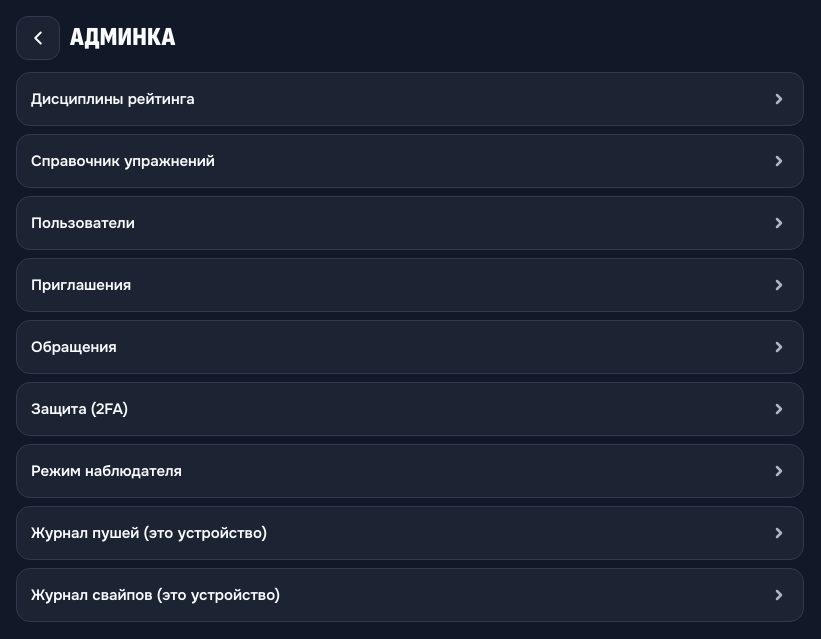
it: AdminScreen: удаление участника › не показывает удаление для себя и других админов (П7: админов так не удалить)
What coordinates should you click on to do the following:
click the button "Пользователи"
I would click on:
 (83, 223)
Its box is x1=16 y1=196 x2=804 y2=250.
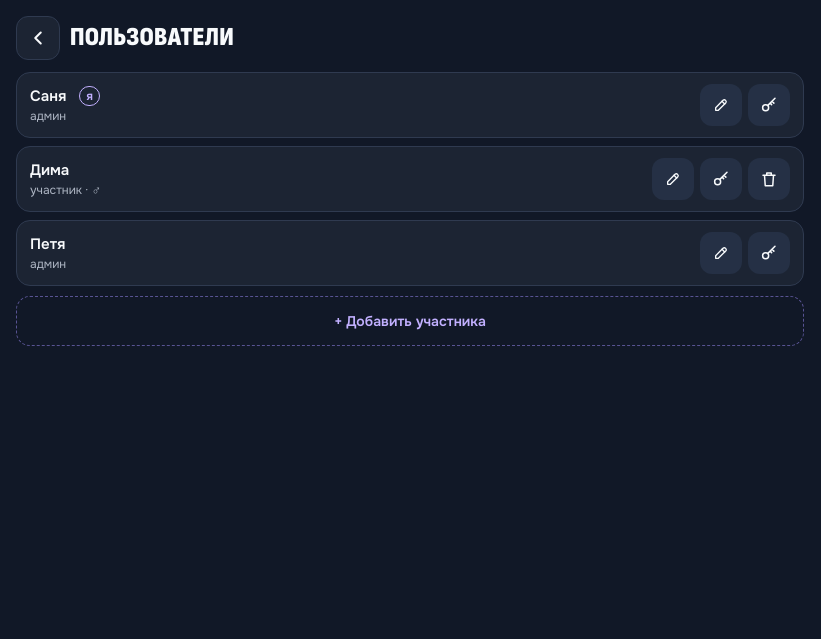
Now the text "Саня" is shown, box x1=30 y1=86 x2=66 y2=106
Now the button named "Удалить Дима" is shown, box x1=748 y1=158 x2=790 y2=200
